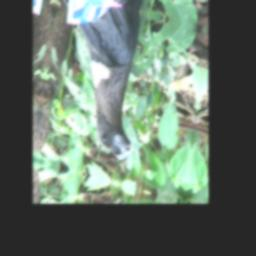Crow: (54, 0, 154, 163)
